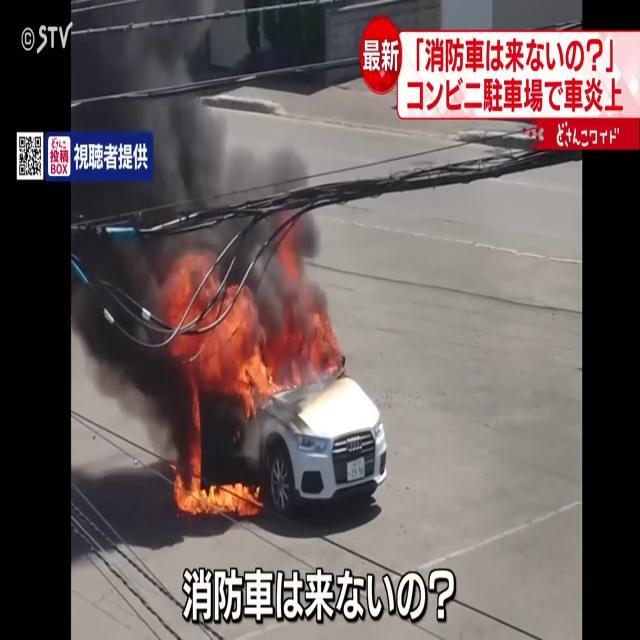Fire: (162, 252, 342, 414), (174, 455, 260, 519)
Smoke: (71, 1, 341, 303)
